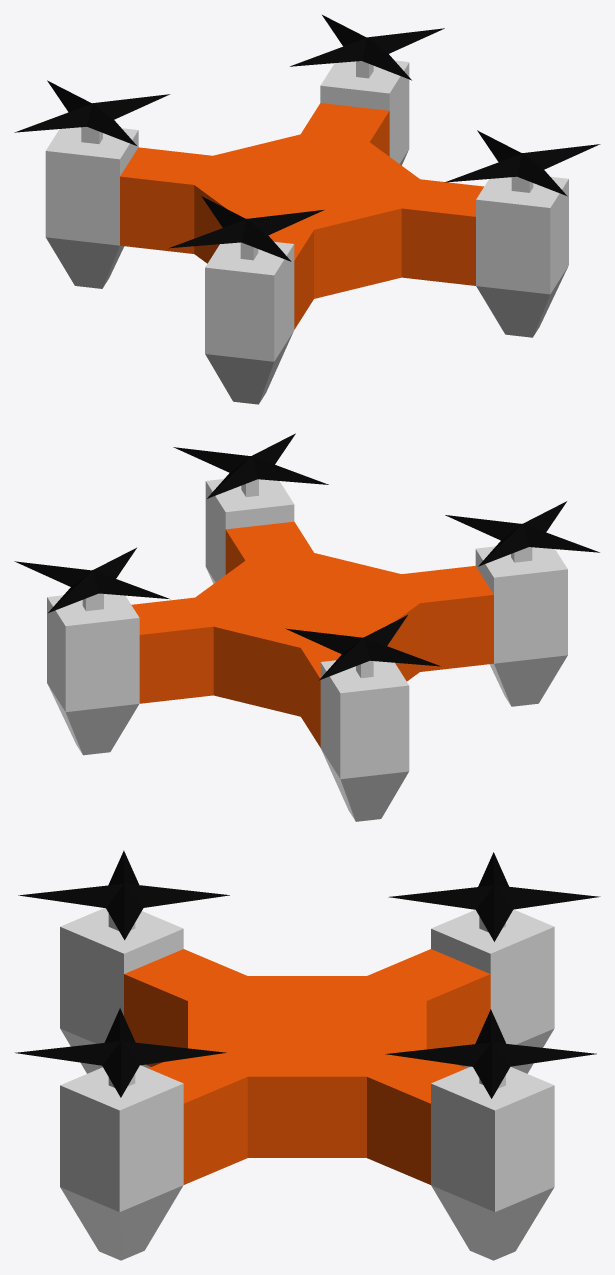
Rendered from Drone.glb.
The picture shows the model from 3 angles, top to bottom: view 1: azimuth 30°, elevation 25°; view 2: azimuth 150°, elevation 25°; view 3: azimuth 270°, elevation 25°; orthographic projection. The views are drawn at different scales.
Visible parts, largest first — view 1: Cube.033, Cube.032, Cone.005, Cone.003, Cone.004, Cone.002; view 2: Cube.033, Cube.032, Cone.003, Cone.004, Cone.005, Cone.002; view 3: Cube.032, Cube.033, Cone.003, Cone.002, Cone.004, Cone.005.
Part boxes in pixels (<box>): Cube.033: <box>120,103,483,329</box>; Cube.032: <box>45,60,568,404</box>; Cone.005: <box>14,80,170,145</box>; Cone.003: <box>444,130,600,196</box>; Cone.004: <box>169,196,324,261</box>; Cone.002: <box>290,15,444,80</box>; Cube.033: <box>131,521,493,747</box>; Cube.032: <box>47,479,567,821</box>; Cone.003: <box>173,433,328,498</box>; Cone.004: <box>445,501,599,566</box>; Cone.005: <box>286,615,441,680</box>; Cone.002: <box>14,547,170,612</box>; Cube.032: <box>60,908,554,1260</box>; Cube.033: <box>124,949,490,1184</box>; Cone.003: <box>15,1008,226,1097</box>; Cone.002: <box>385,1009,596,1098</box>; Cone.004: <box>18,850,229,940</box>; Cone.005: <box>388,852,600,941</box>.
Bounding box in the file's own units: 2.26 × 0.8884 × 2.25.
